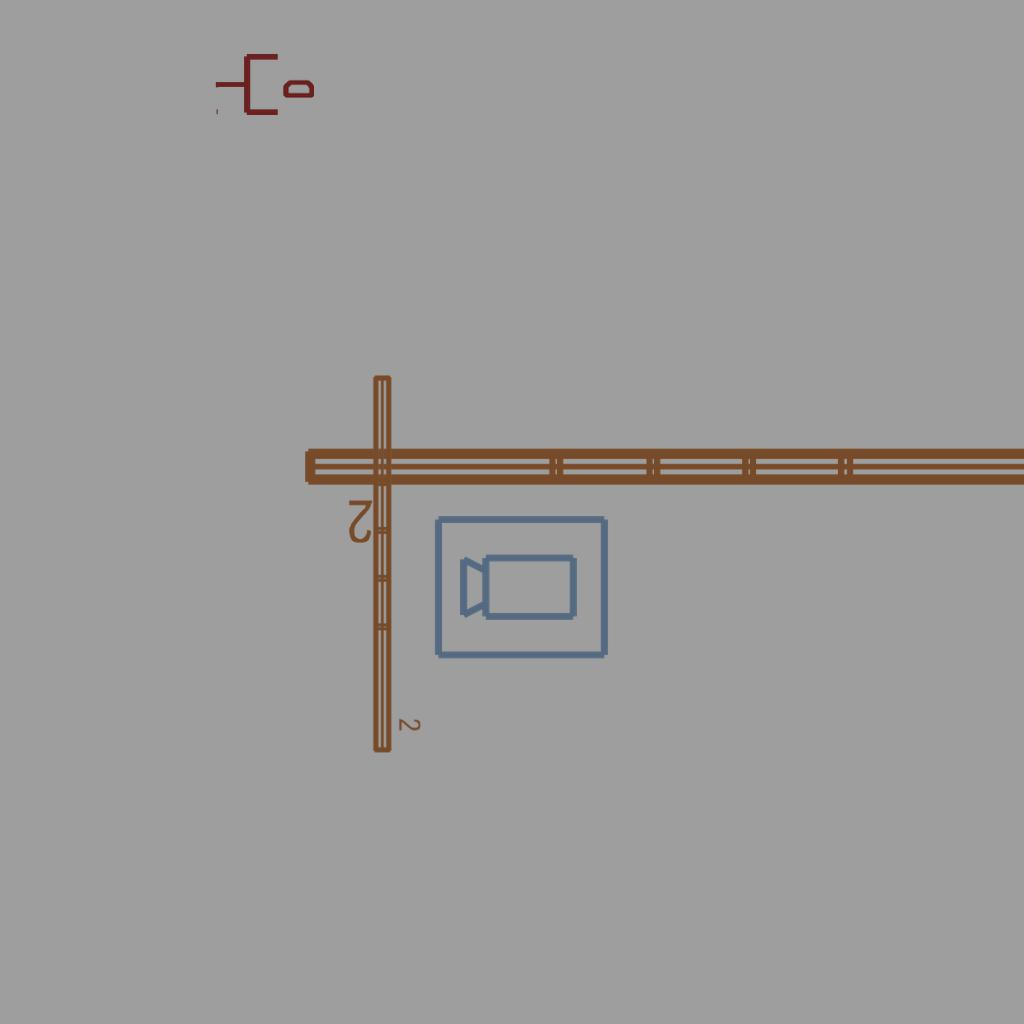Ambulanz_Pendelleuchte_LED: (296, 436, 1024, 548), (367, 370, 423, 757)
Datenanschluss_einfach: (214, 50, 314, 119)
KFO_Kamera_mit_Festobjektiv: (431, 509, 613, 663)
